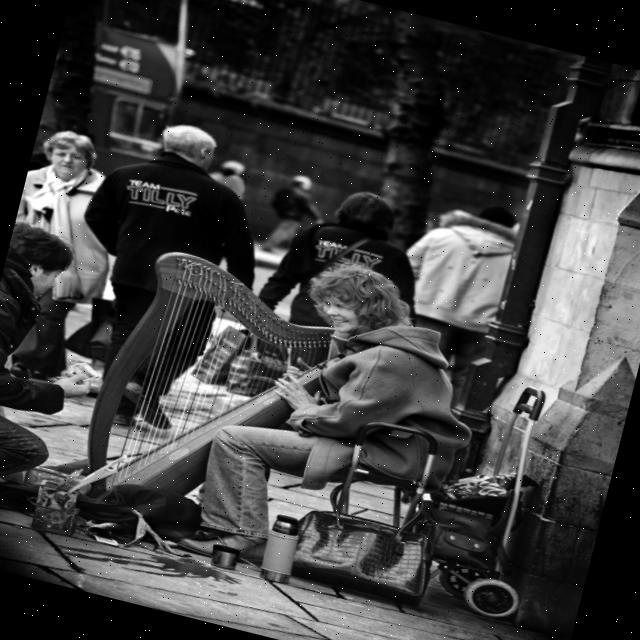harp: (66, 238, 364, 560)
